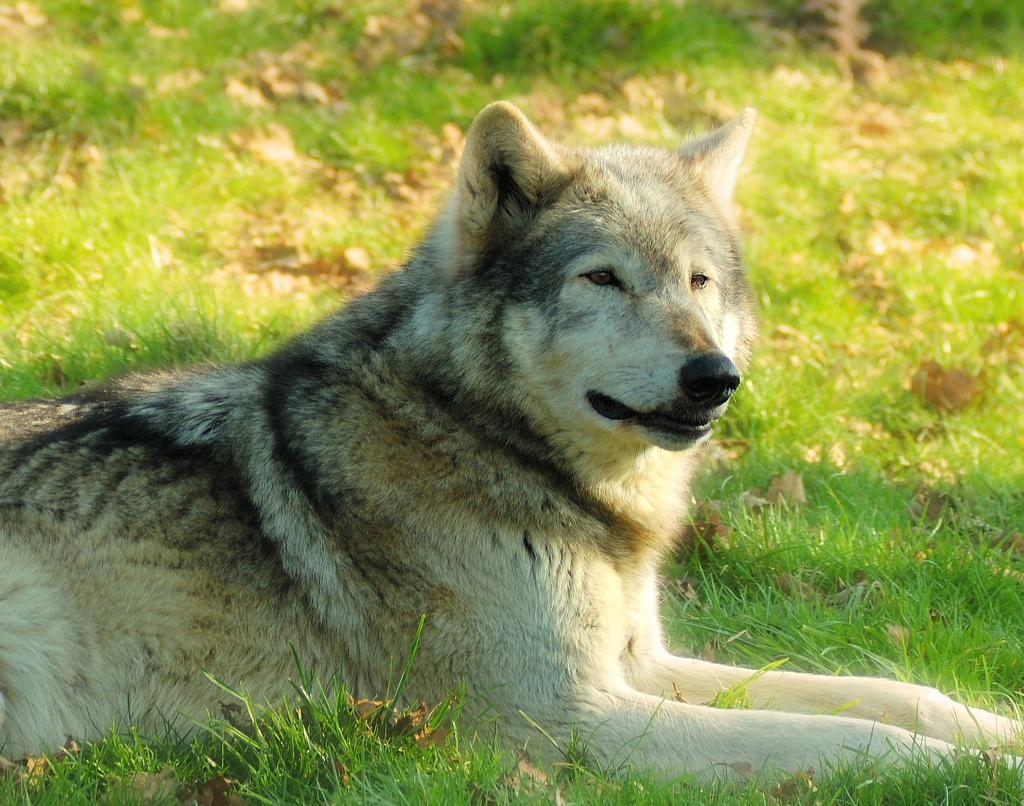Wolf: (3, 93, 1024, 789)
